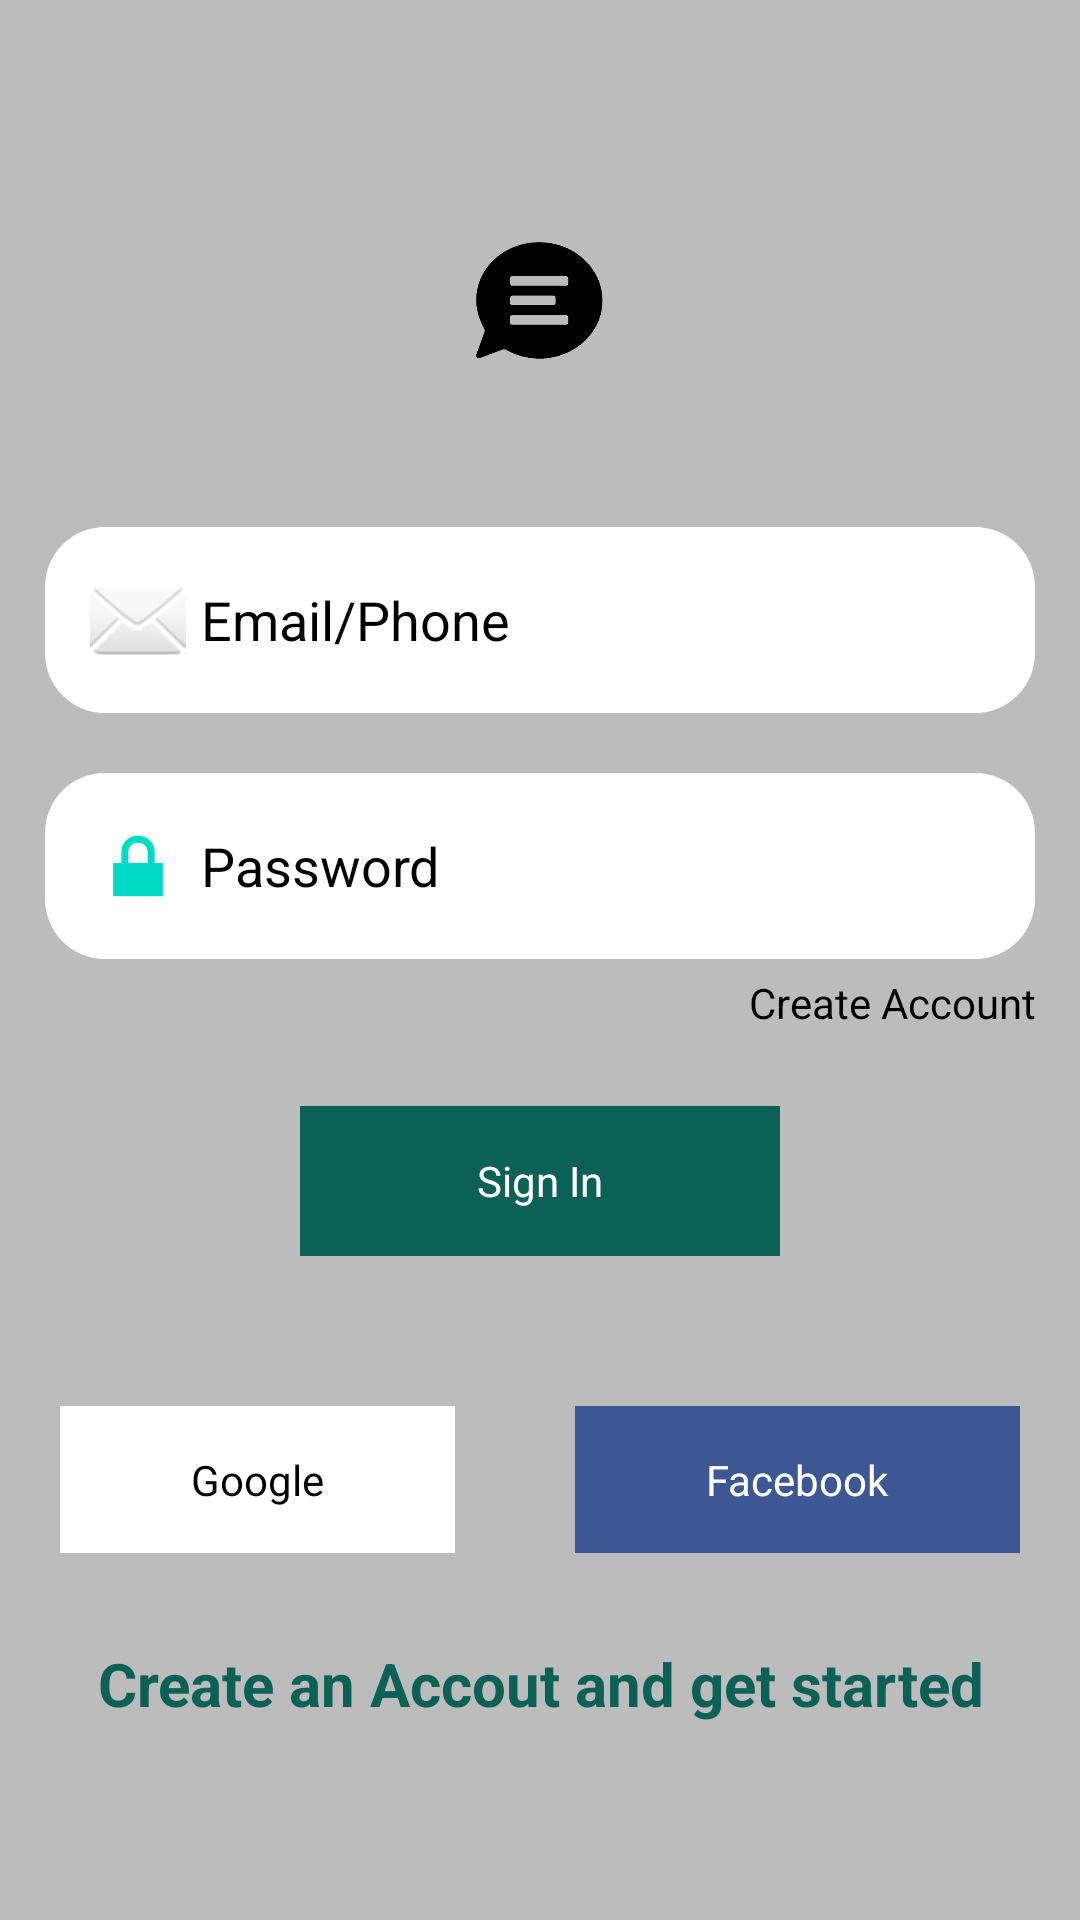

Icon click points for this 1080 x 1920 phone screenshot, format [x,y]:
quicktext: [539,300]
